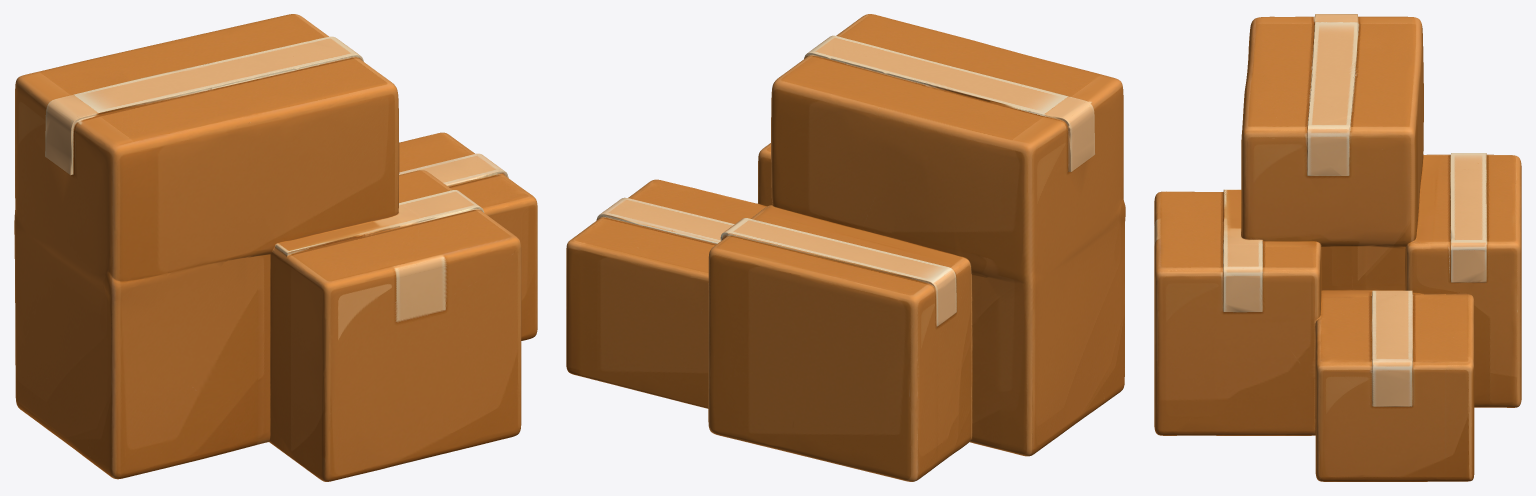
The model's file is parcels.glb.
The picture shows the model from 3 angles, left to right: view 1: azimuth 30°, elevation 25°; view 2: azimuth 150°, elevation 25°; view 3: azimuth 270°, elevation 25°; orthographic projection. The views are drawn at different scales.
Size of the model in its own units: 1.9 by 1.29 by 1.52.
Materials: 1 (1 with a texture image).
